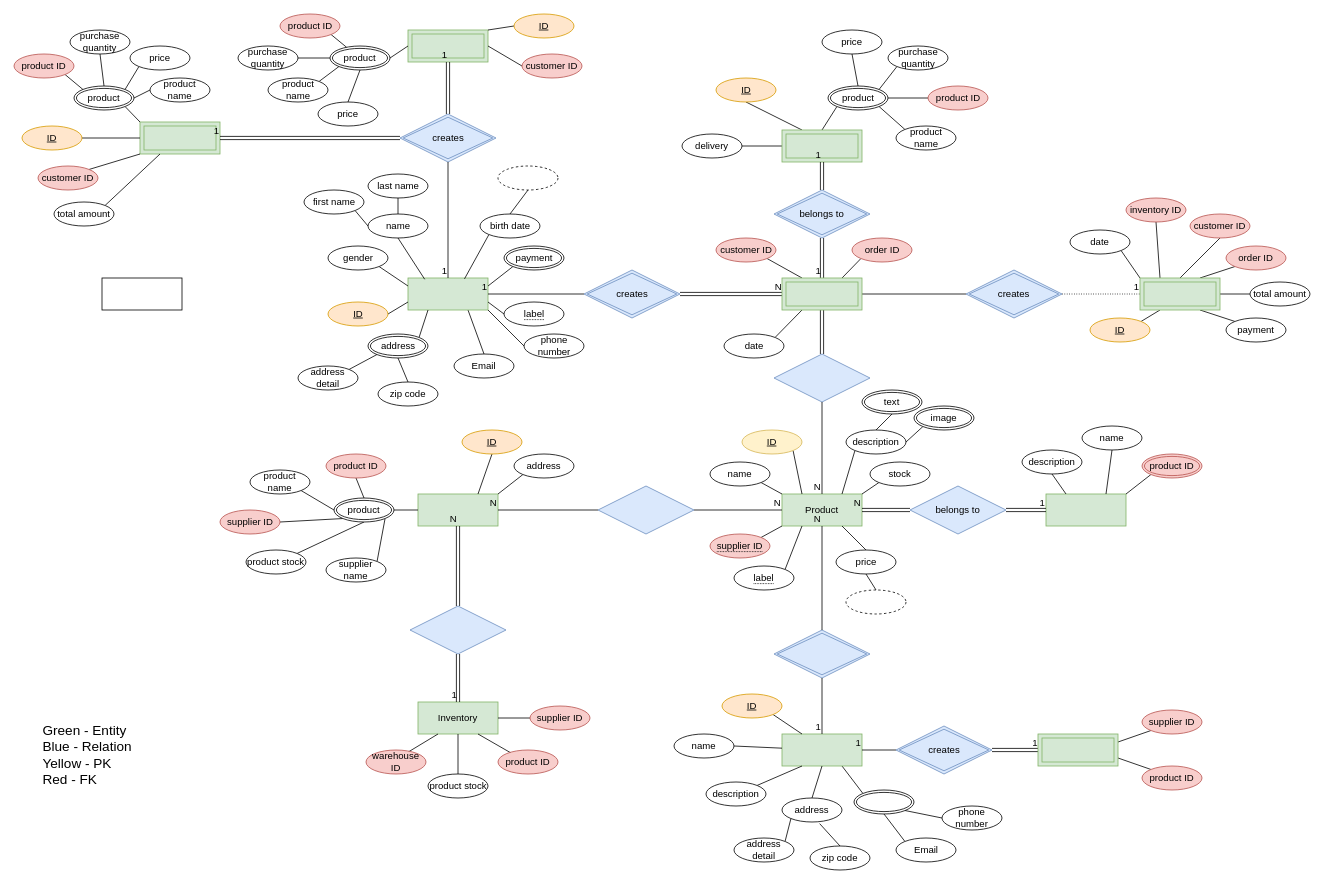
Some shapes in this 1324 by 884 pixel diagram are drawn without their labels. Here are the shapes that lost their labels. From the top down, the centre of each, then its label:
At point (447, 45): "Wishing List".
At point (179, 137): "Shopping Cart".
At point (821, 145): "Order Details".
At point (527, 177): "age".
At point (141, 293): "Ad".
At point (447, 293): "Customer".
At point (821, 293): "Order".
At point (1179, 293): "Transaction".
At point (821, 377): "includes".
At point (457, 509): "Warehouse".
At point (645, 509): "stores".
At point (1085, 509): "Category".
At point (875, 601): "sale price".
At point (457, 629): "documents".
At point (821, 653): "produces".
At point (821, 749): "Supplier".
At point (1077, 749): "Shelves".
At point (883, 801): "contact".
